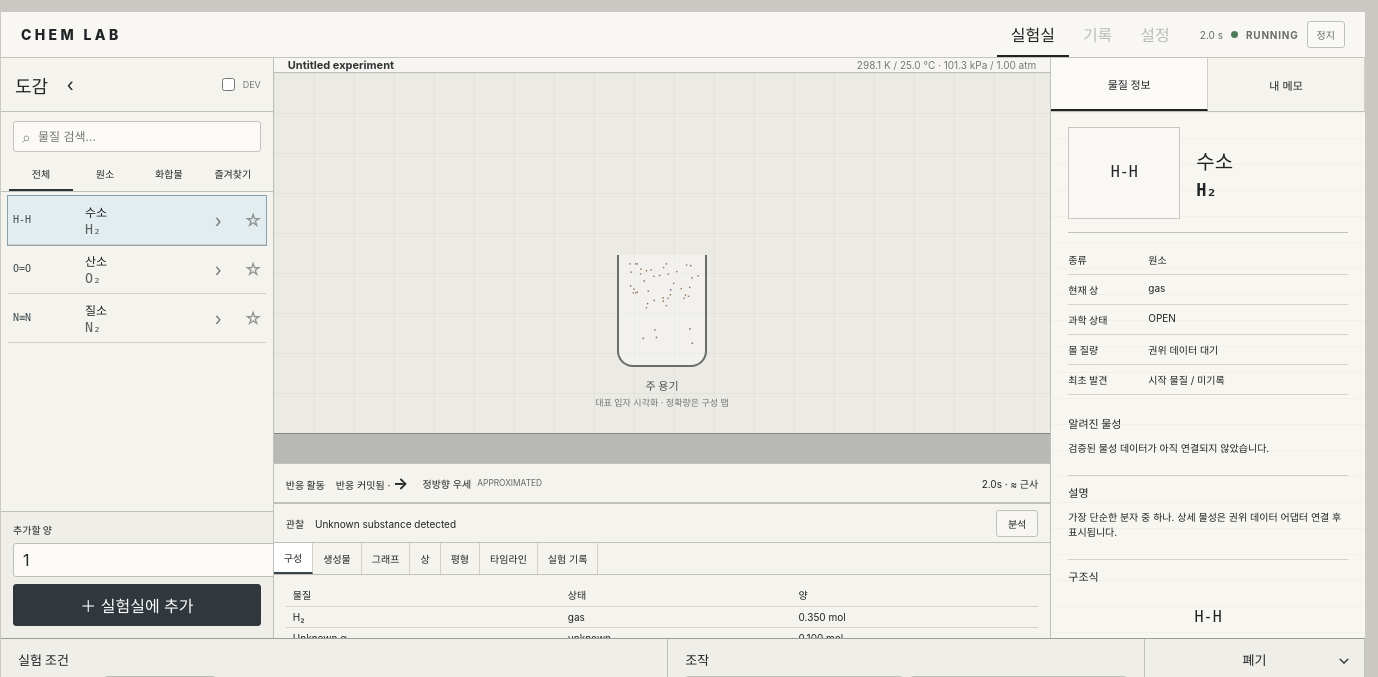
Test: Phase 3B production workspace integration › enriches compact Reaction Activity and secondary equilibrium detail without exposing raw pair id
Expected: the text "정방향 우세" is shown, [422,476,471,490]
Expected: the element "반응 활동" shows "≈ 근사", [982,478,1038,490]
Click the button "평형" at (460, 558), box [441,543,480,574]
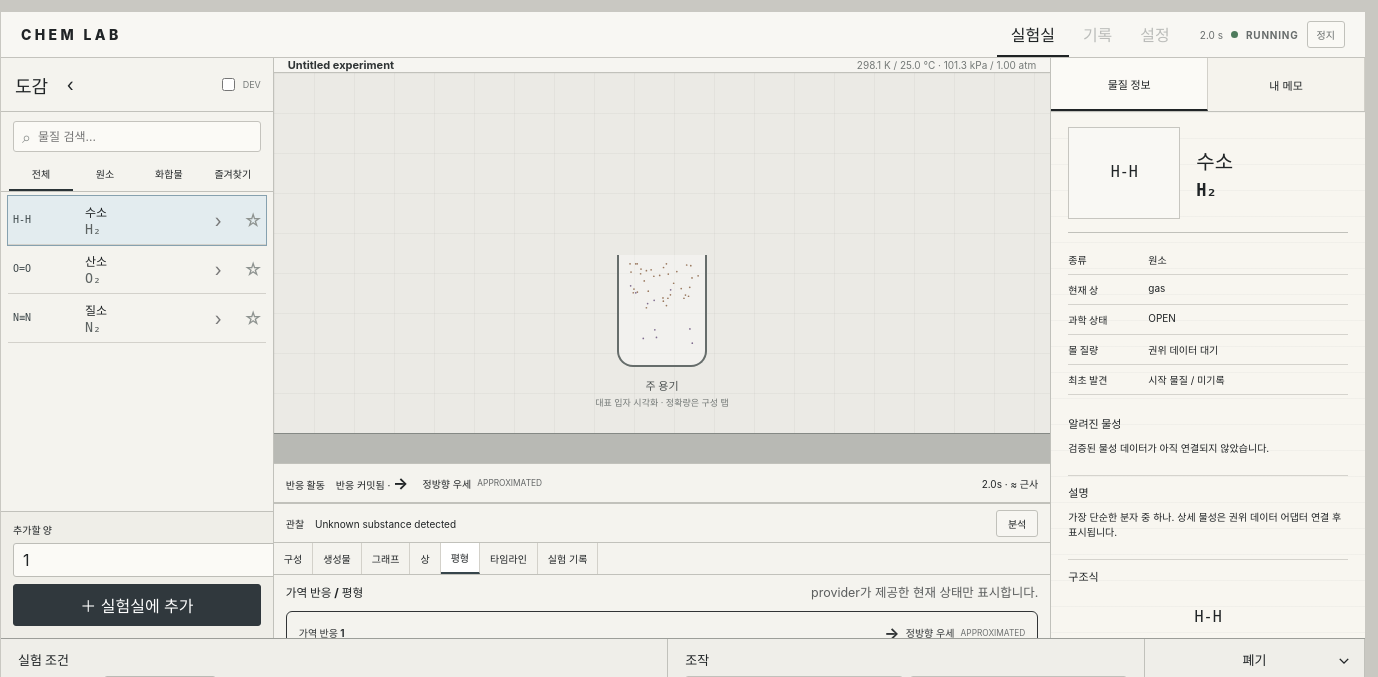
Expected: the element named "실험실 작업대" does not show "internal:fixture-reversible-pair", [274,58,1051,638]
Result: the heading "가역 반응 / 평형" is shown at [286,583,363,600]
